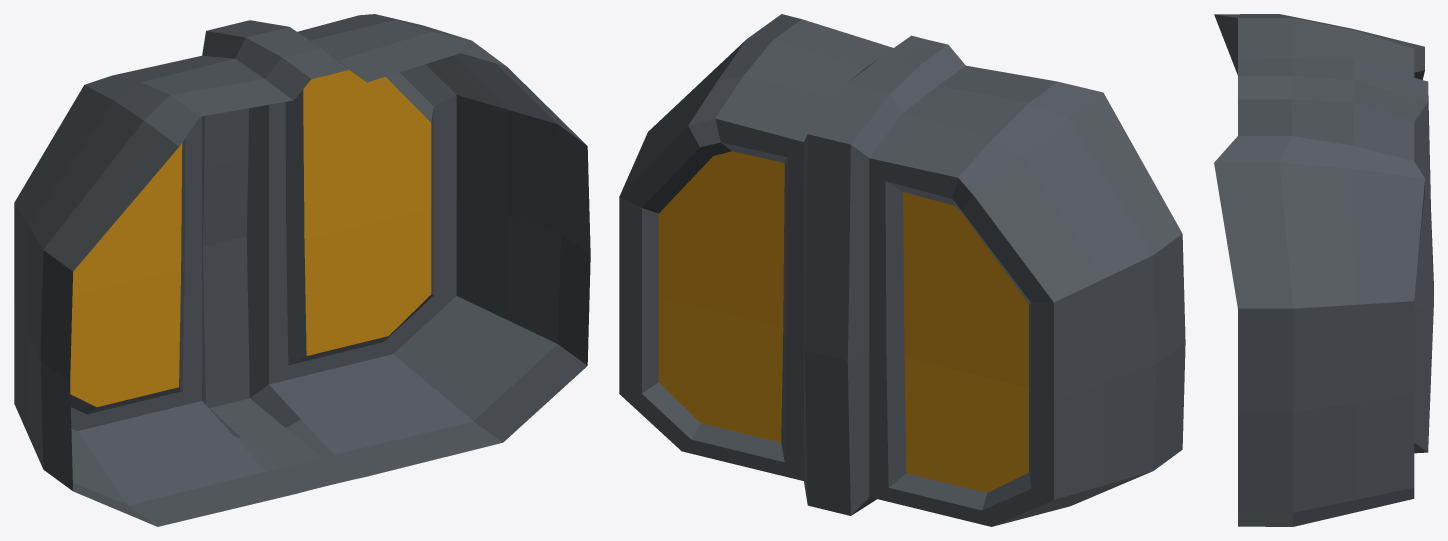
The model's file is Fighter_10_End_Cap_Yellow.fbx.
The picture shows the model from 3 angles, left to right: view 1: azimuth 30°, elevation 25°; view 2: azimuth 150°, elevation 25°; view 3: azimuth 270°, elevation 25°; orthographic projection. The views are drawn at different scales.
Visible parts, largest first — view 1: Fighter_10_End_Cap_Yellow; view 2: Fighter_10_End_Cap_Yellow; view 3: Fighter_10_End_Cap_Yellow.
Part boxes in pixels (x1,y1,x2,y2): Fighter_10_End_Cap_Yellow: [14, 14, 590, 526]; Fighter_10_End_Cap_Yellow: [619, 14, 1185, 526]; Fighter_10_End_Cap_Yellow: [1214, 14, 1433, 526].
Bounding box in the file's own units: 788 × 596 × 311.
1 material, 1 textured.
